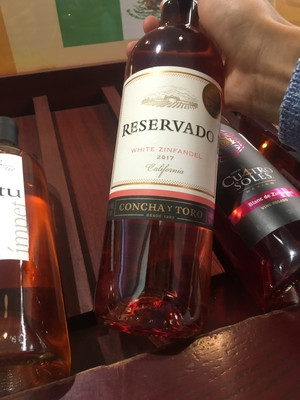reservado white zinfandel: (96, 5, 237, 353)
